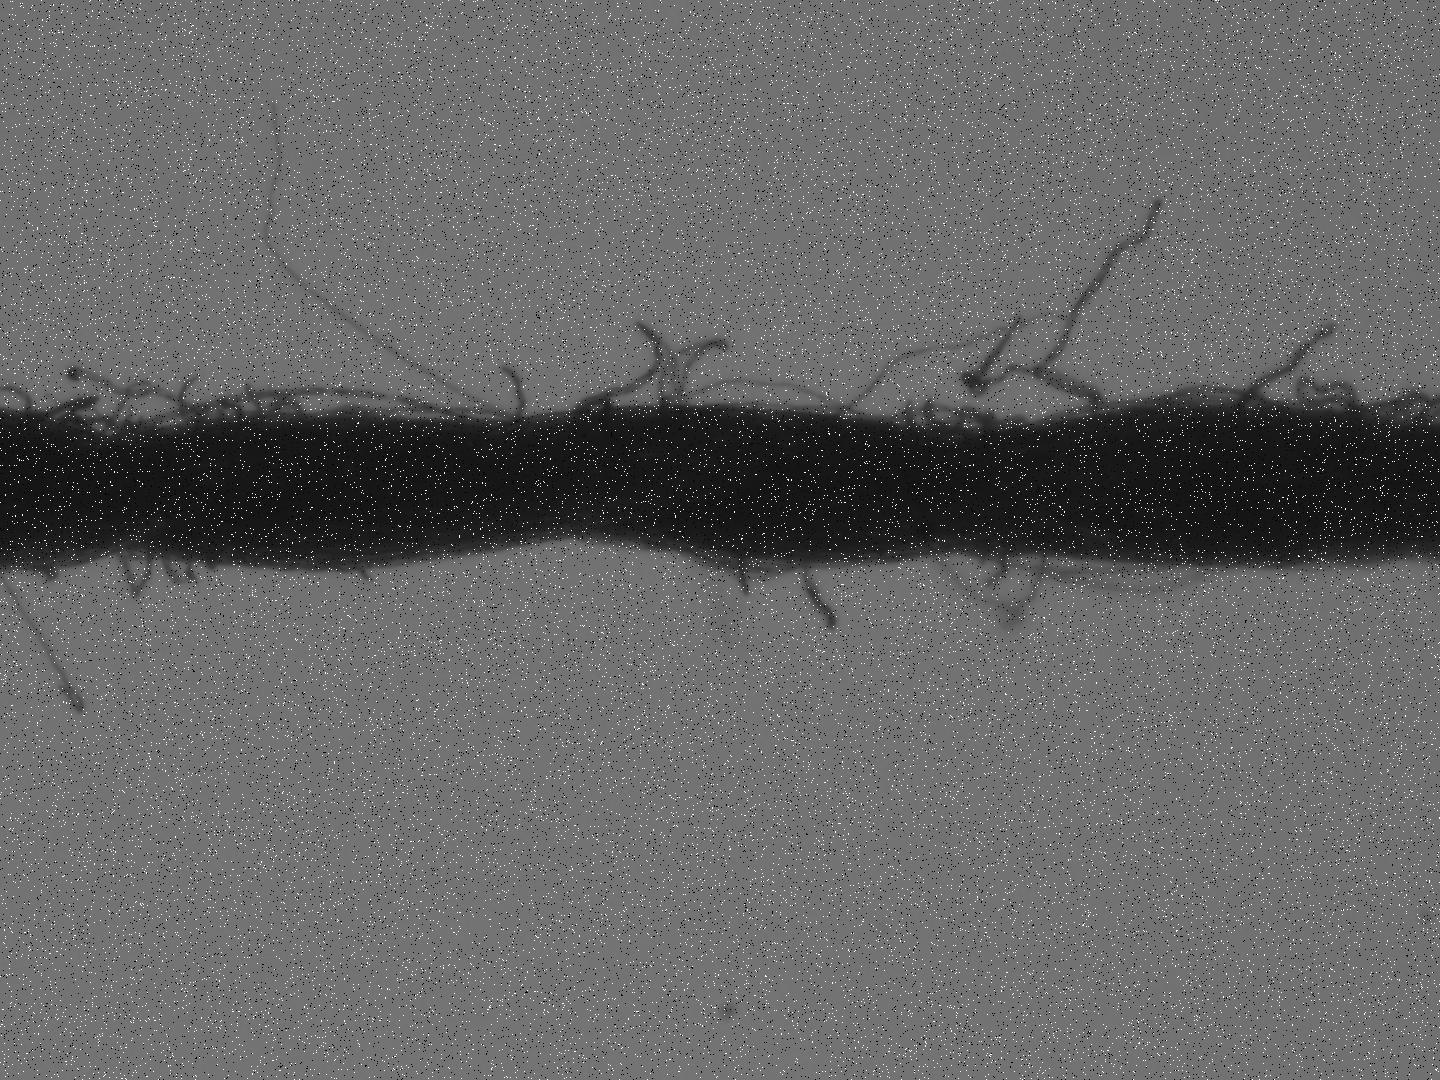loop_fiber: (124, 387, 457, 430), (927, 547, 1047, 626), (676, 371, 866, 416), (584, 324, 686, 407), (1296, 372, 1425, 422), (657, 338, 727, 405), (880, 400, 1022, 432), (1154, 377, 1280, 411), (112, 547, 154, 598), (37, 394, 99, 425), (66, 413, 139, 436), (257, 397, 306, 422), (573, 395, 613, 415)
protruding_fiber: (1229, 319, 1337, 408), (803, 556, 836, 631), (491, 360, 525, 423)
